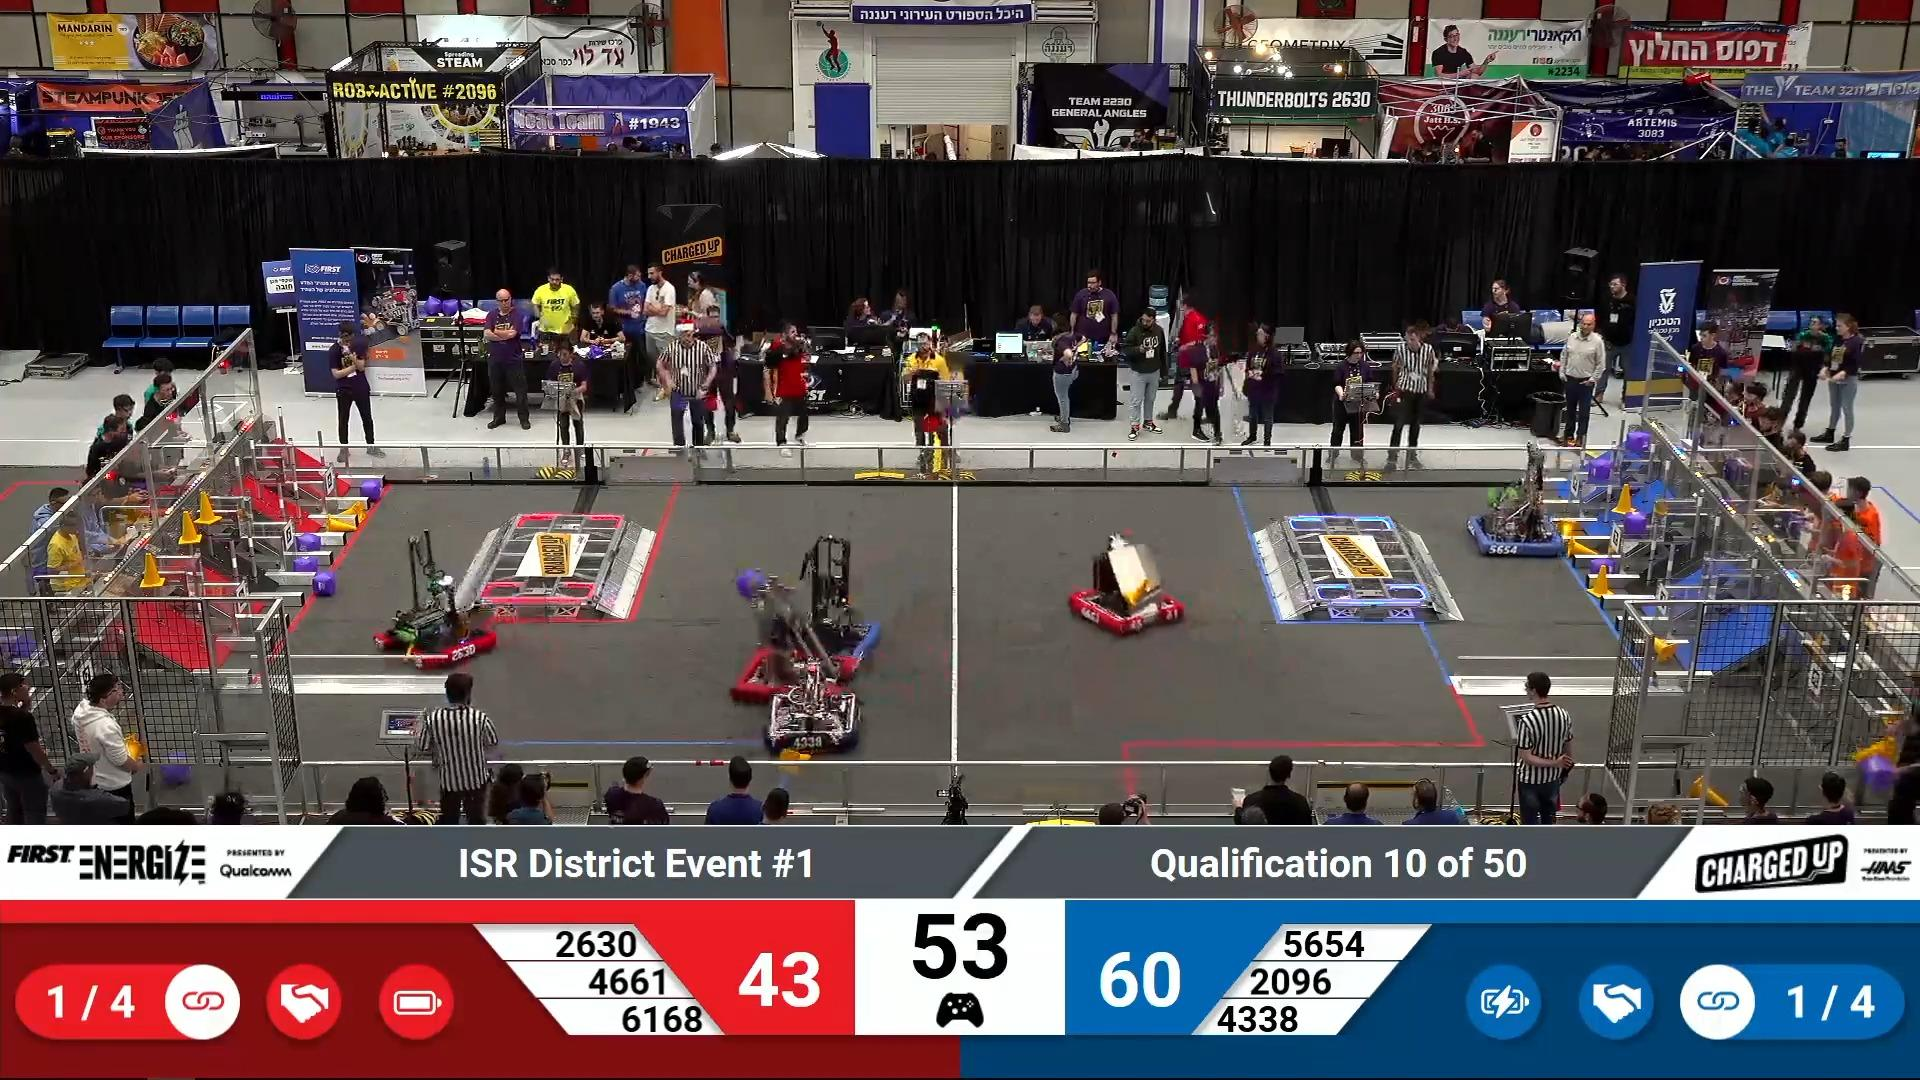robot: (371, 588, 501, 674), (1072, 558, 1189, 645), (725, 630, 856, 707), (1464, 476, 1568, 563), (782, 576, 881, 666), (769, 688, 865, 765)
